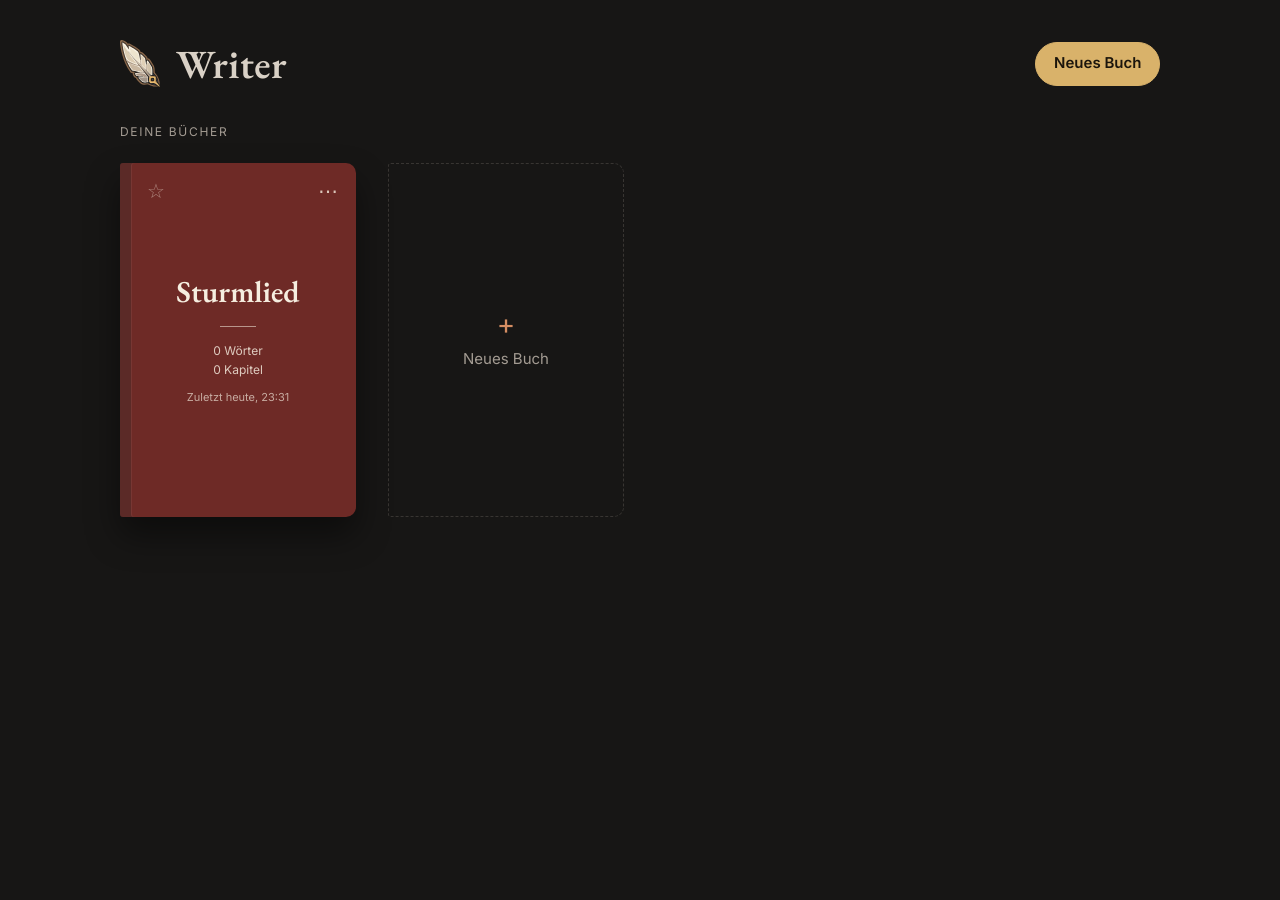
it: the shelf ends with a card for a new book
Expected: the element "Sturmlied" is shown, left=120, top=163, right=356, bottom=517
Click the button with aria-label "Neues Buch (im Regal)": coordinates (506, 340) left=388, top=163, right=624, bottom=517
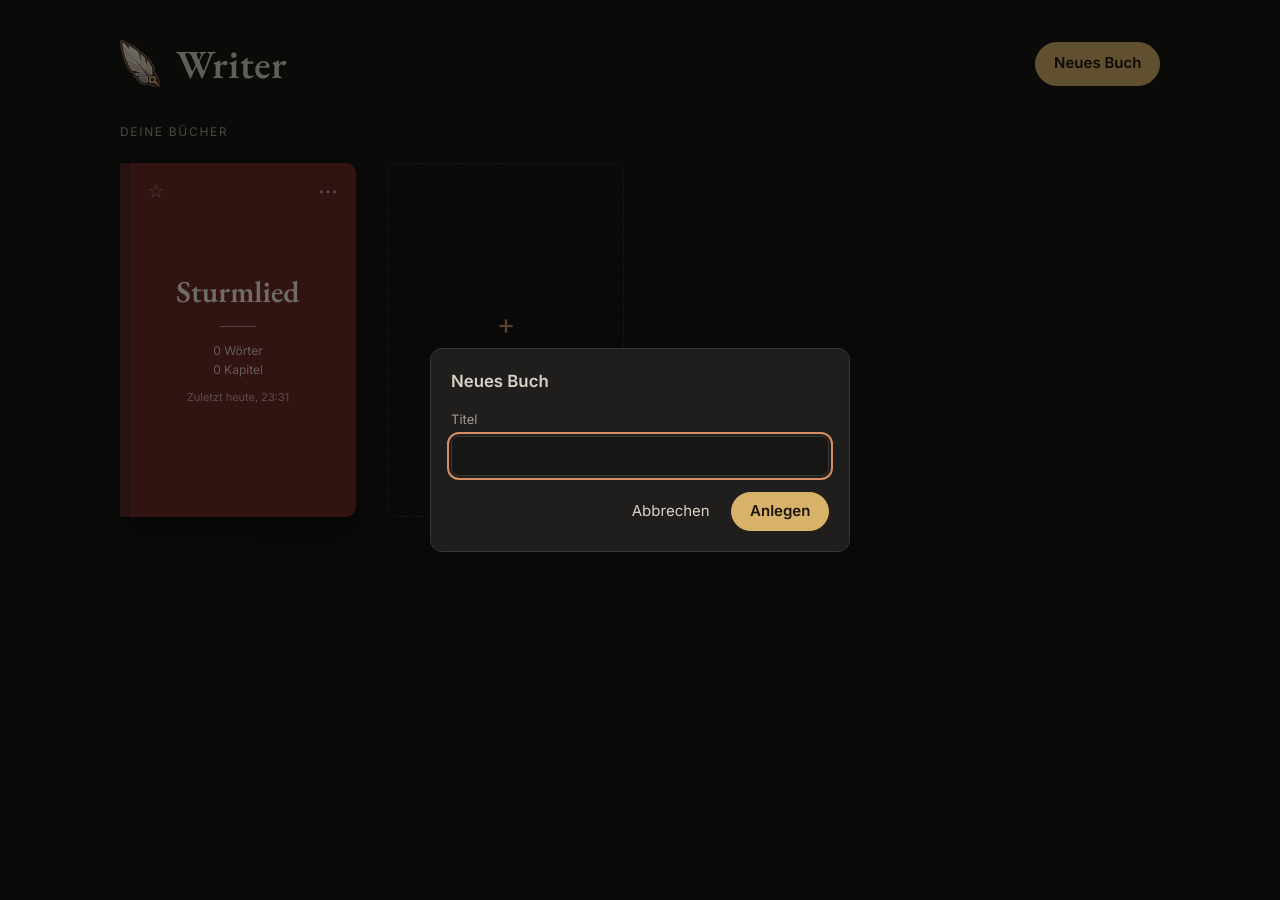
Expected: the field labelled "Titel" is shown, left=451, top=436, right=829, bottom=476
